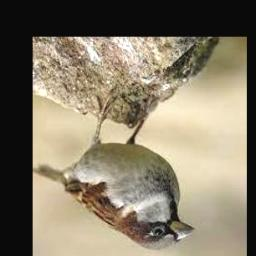Sparrow: (33, 95, 196, 250)
